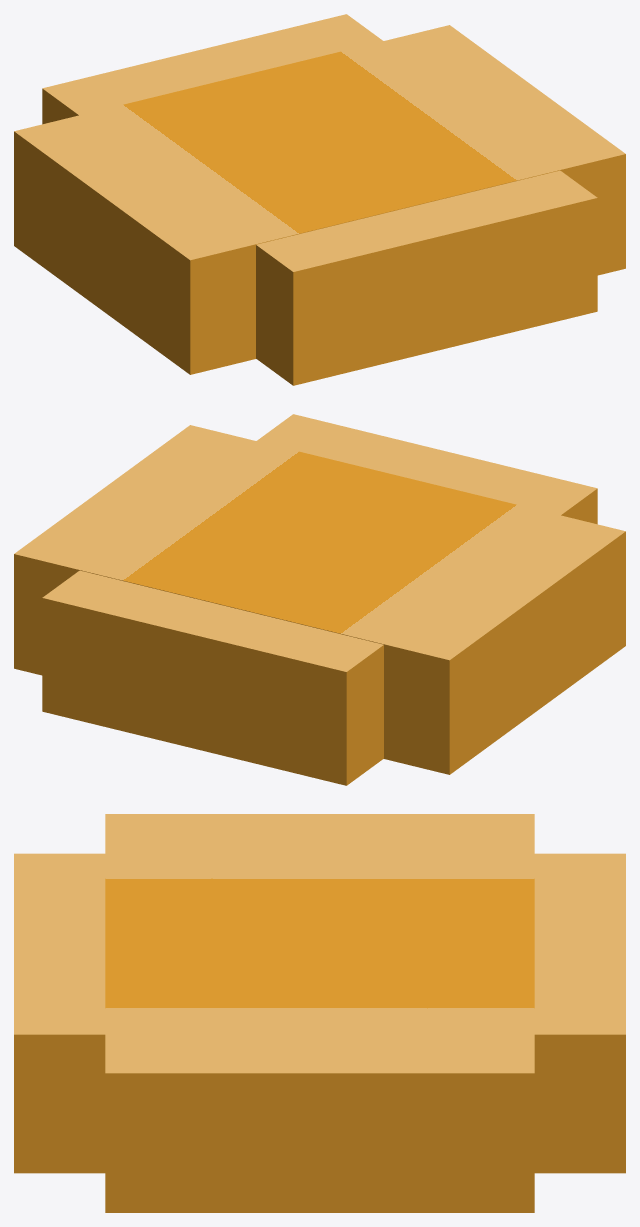
The model's file is Money Coin.gltf.
3 views of the same model, one above another, from view 1: azimuth 30°, elevation 25°; view 2: azimuth 150°, elevation 25°; view 3: azimuth 270°, elevation 25° (orthographic). The views are drawn at different scales.
Parts seen in each view (by area): view 1: cube (×2); view 2: cube (×2); view 3: cube (×2).
Part boxes in pixels (<box>): cube (×2): <box>14,14,625,385</box>; cube (×2): <box>14,414,625,785</box>; cube (×2): <box>14,814,625,1212</box>.
Size of the model in its own units: 0.0626 by 0.0157 by 0.0625.
Materials: 1 (1 with a texture image).
